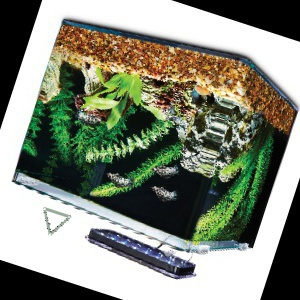triangle: (40, 205, 73, 237)
